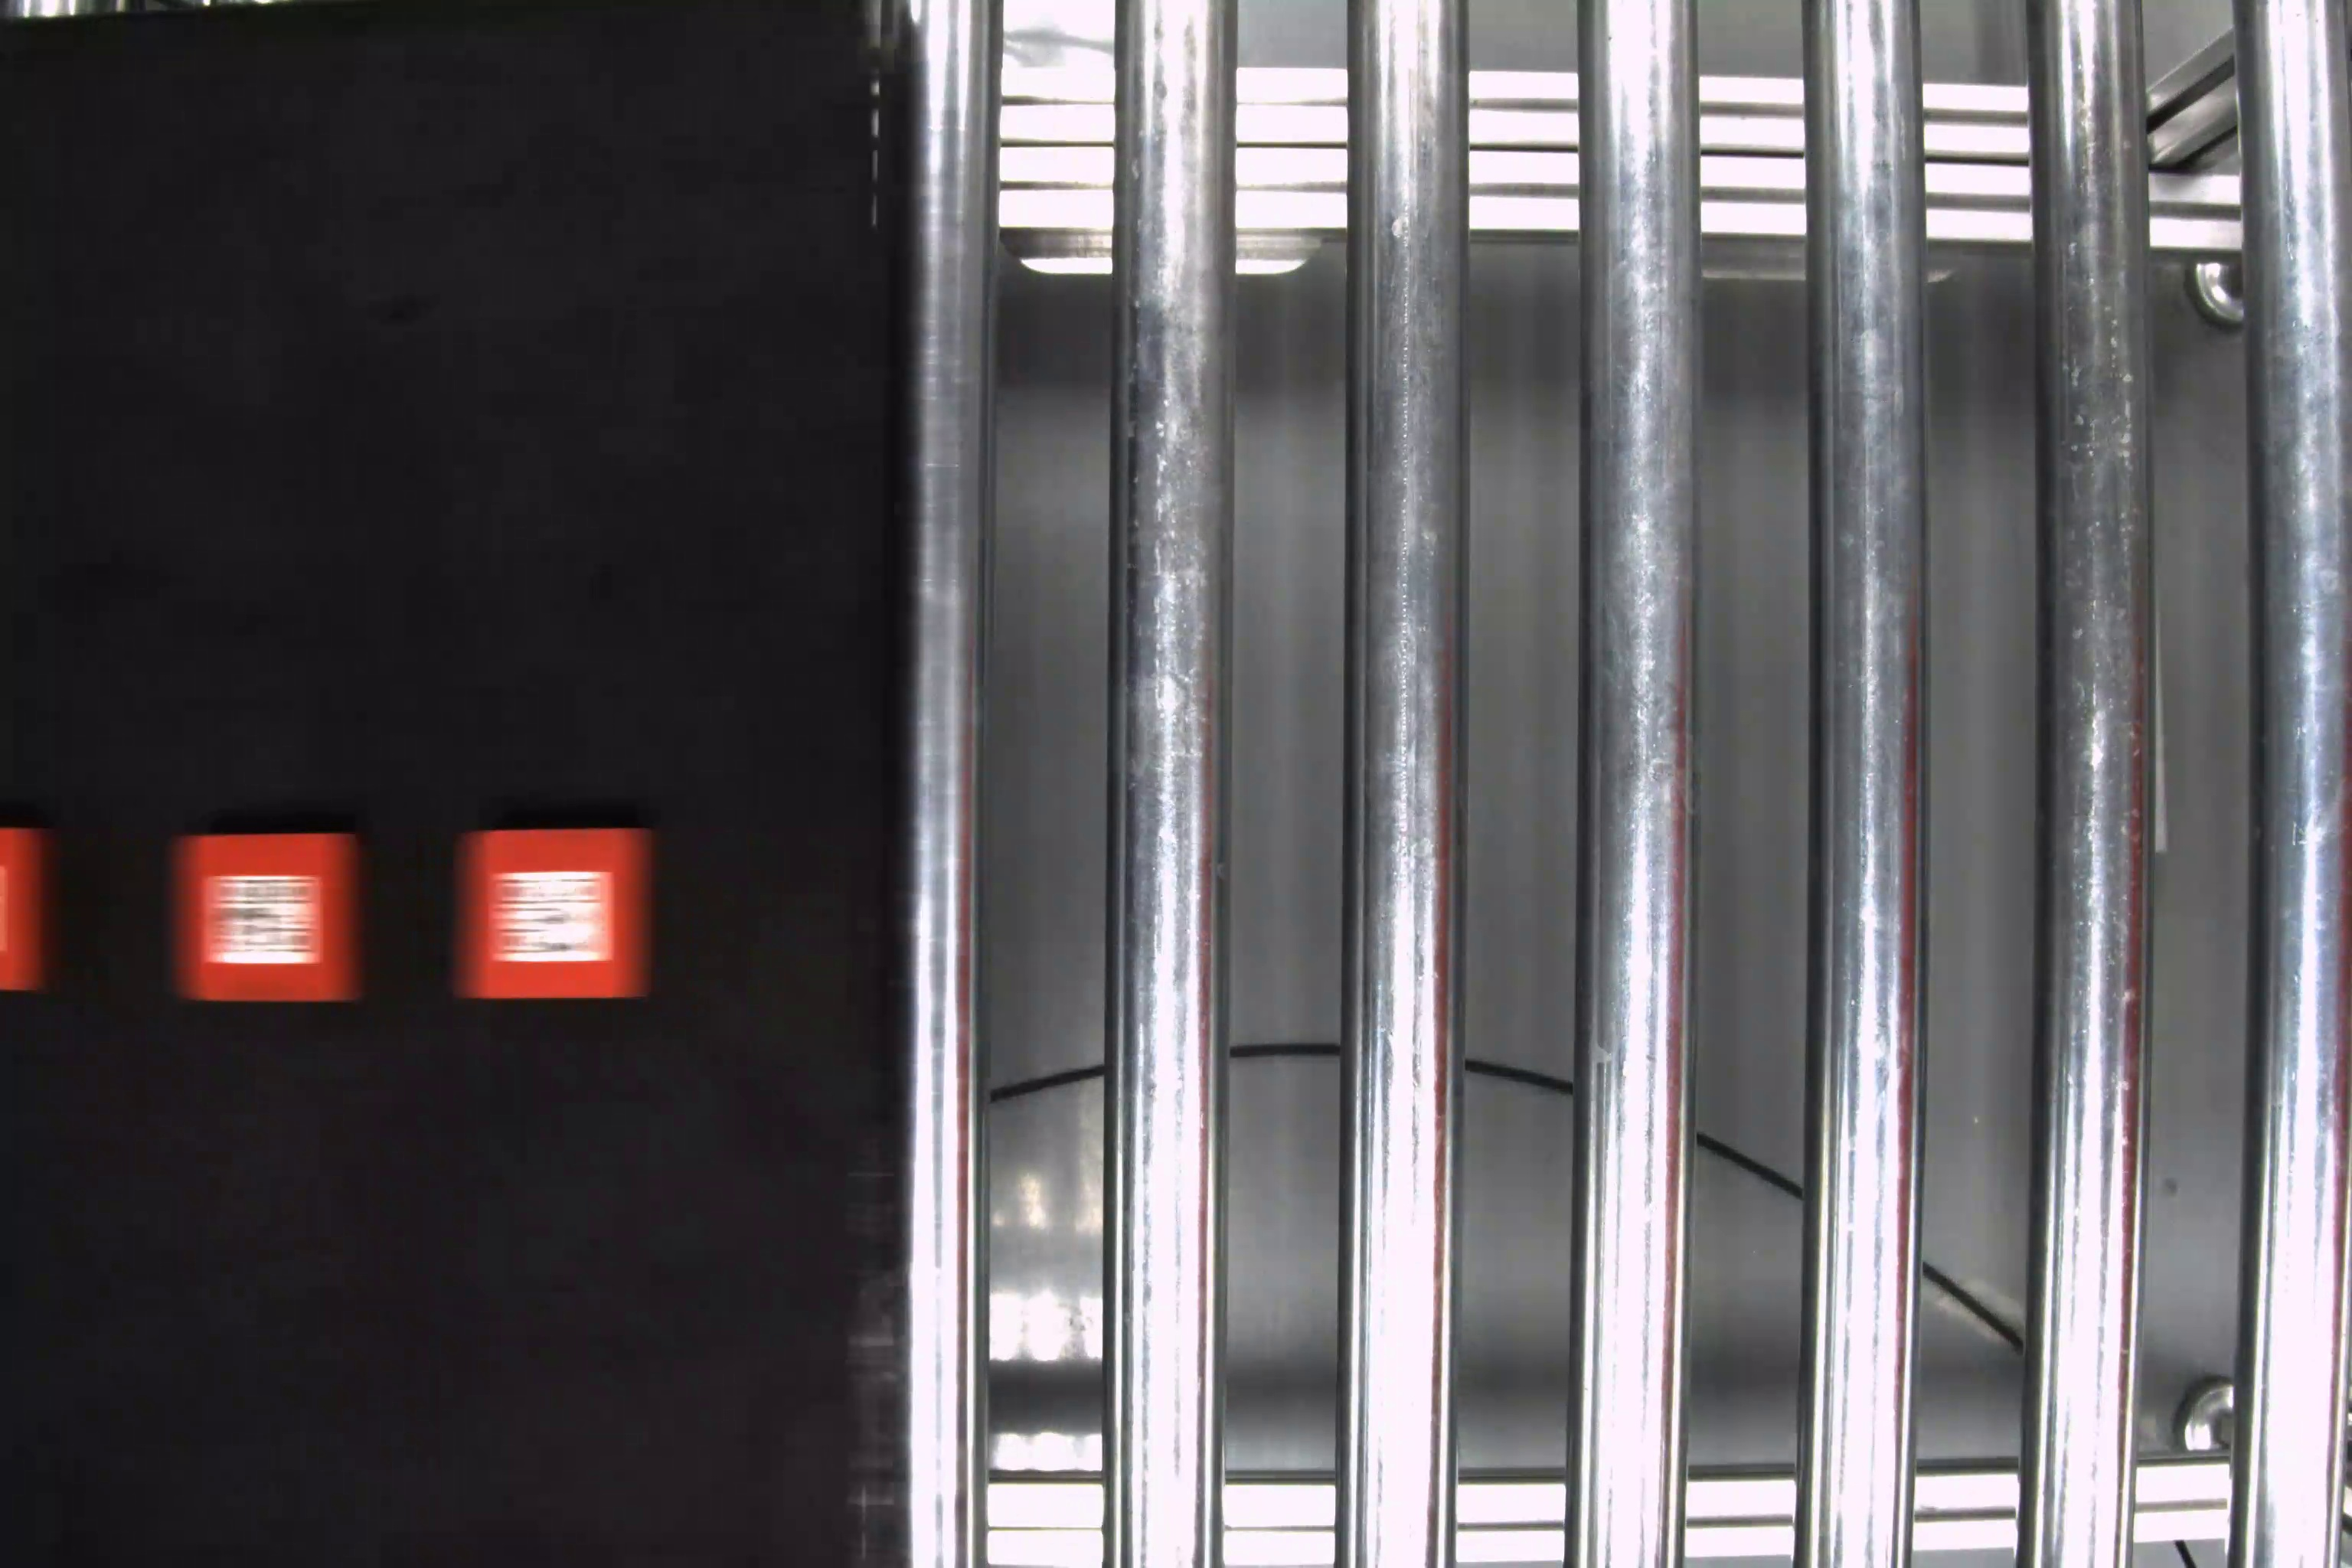wood: (455, 828, 661, 1001), (170, 833, 373, 1008)
